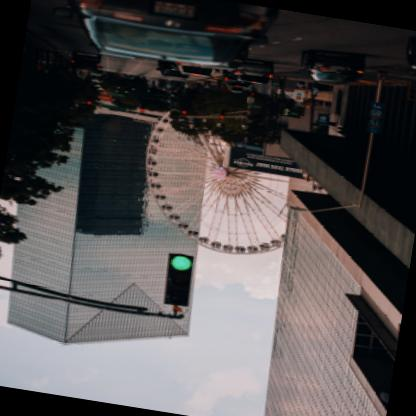trafficlight: (160, 252, 198, 310)
